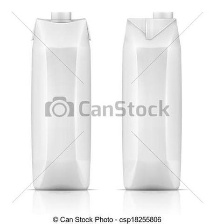carton: (28, 8, 93, 192), (120, 12, 184, 195)
